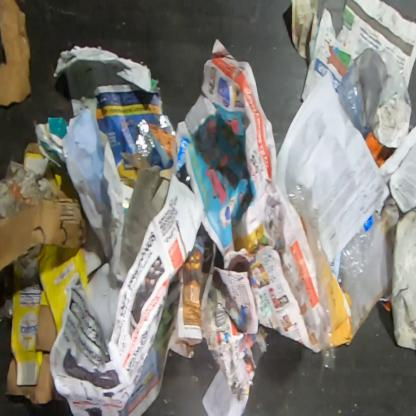cardboard: (5, 244, 102, 405), (349, 198, 400, 339), (0, 197, 87, 272), (23, 143, 62, 191)
soft_plastic: (286, 184, 336, 370), (335, 46, 413, 132), (338, 210, 384, 293), (135, 115, 176, 171)
